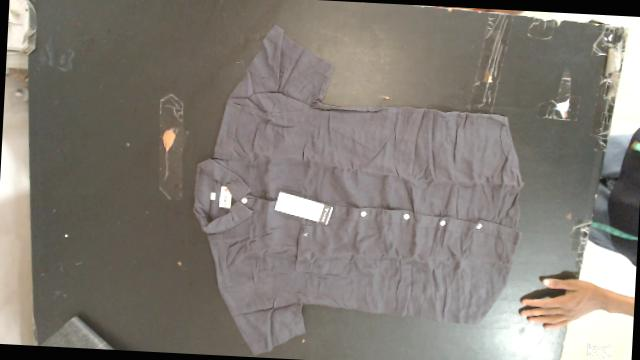new-garment: (193, 25, 522, 353)
